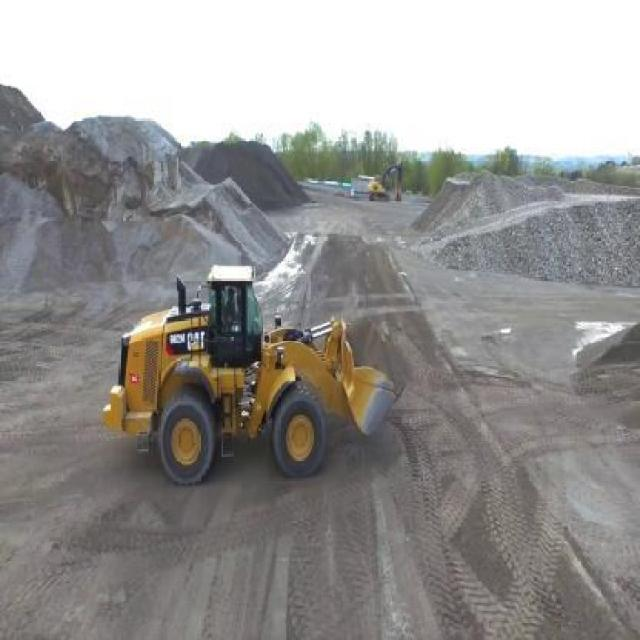Excavator: (367, 156, 402, 202)
Loader: (102, 260, 403, 488)
